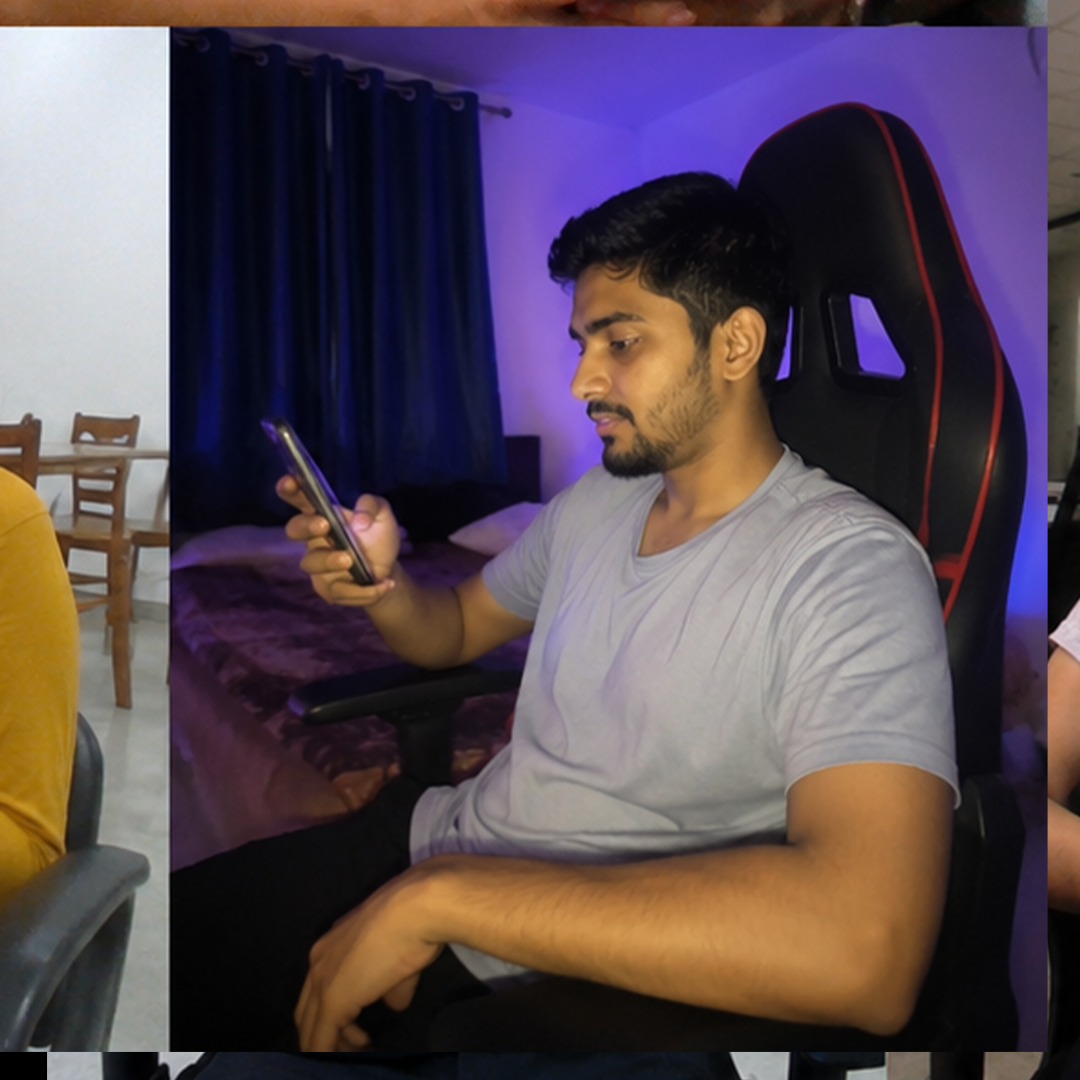distracted: (203, 148, 921, 974)
